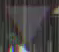Give way: (2, 2, 58, 50)
